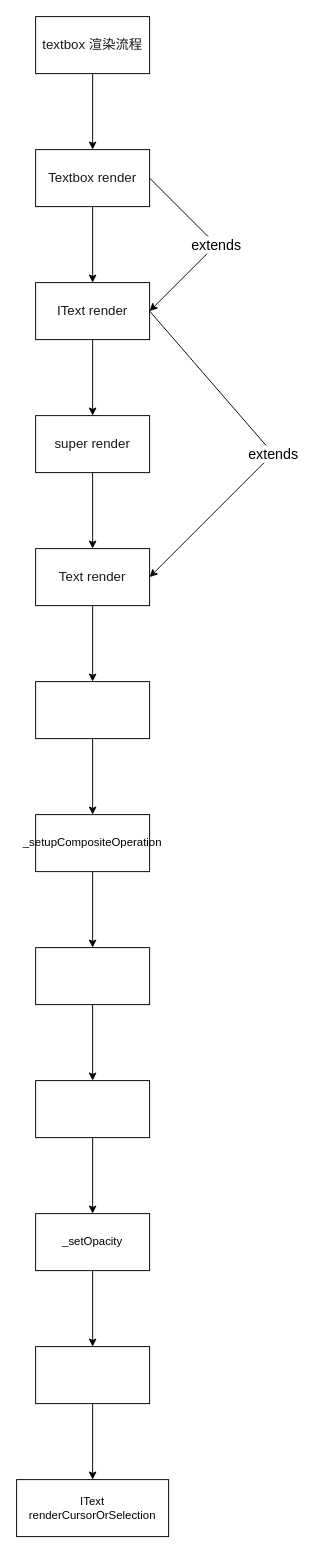
Some shapes in this 314 by 1553 pixel diagram are drawn without their labels. The shapes that lost their labels are listed below. From the top down, each one's centre as x and y in pixels, then its label:
At point 92,710: "Object render".
At point 92,976: "drawSelectionBackground".
At point 92,1109: "transform".
At point 92,1375: "_setShadow".
